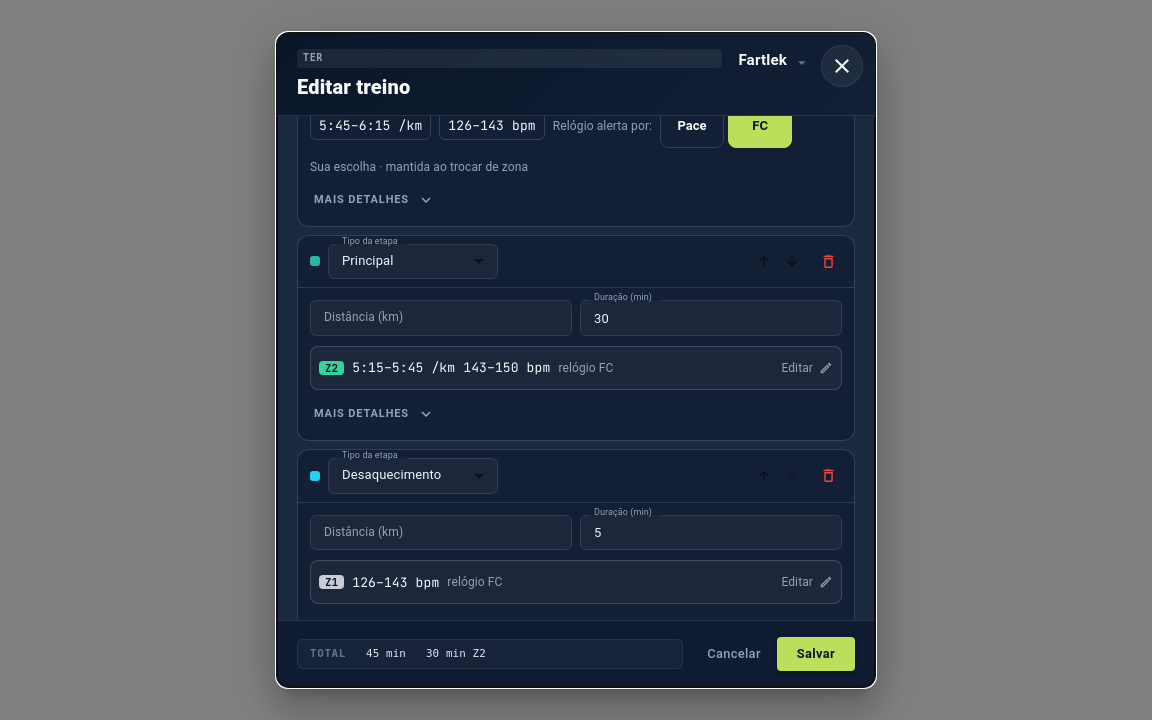
Test: TreinoEditDialog — zonas do atleta › clicar na linha-resumo passa o foco para aquela etapa
The width and height of the screenshot is (1152, 720).
(page scrolled)
Click the button with aria-label "editar intensidade — tipo da etapa 2" at {"x": 576, "y": 368}, box left=310, top=346, right=842, bottom=390
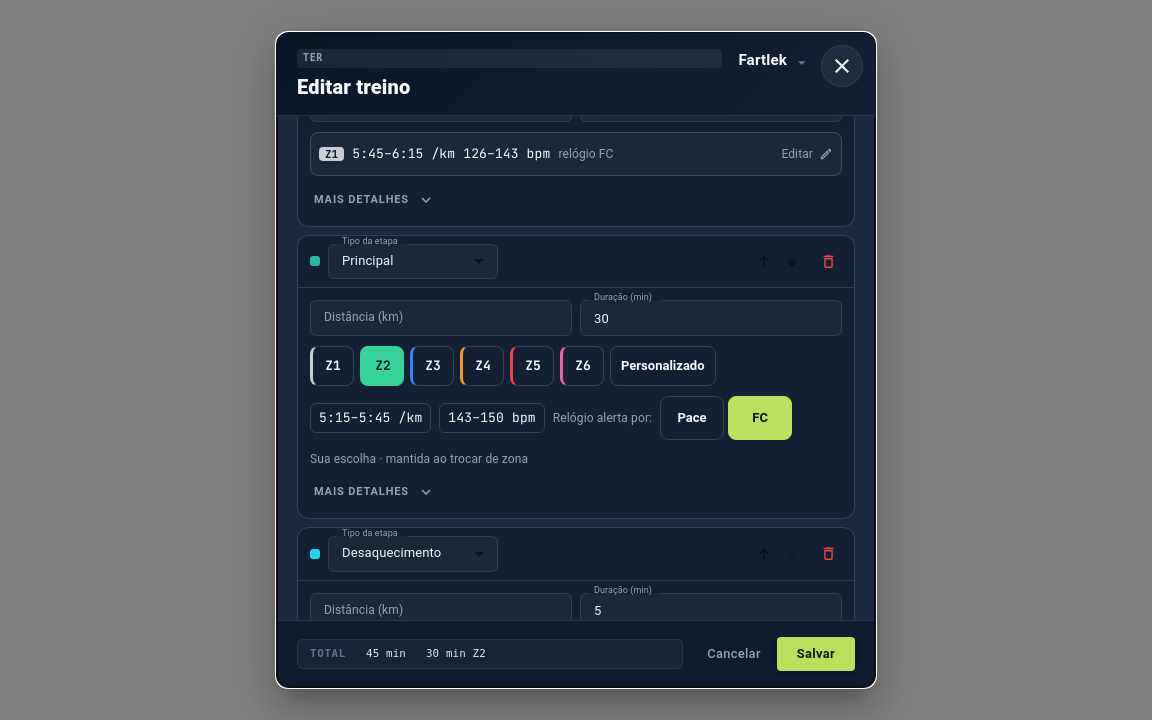
Expected: the number of elements named "zona da etapa" is 1, left=310, top=346, right=716, bottom=386
Expected: the button with aria-label "editar intensidade — tipo da etapa 1" is shown, left=310, top=132, right=842, bottom=176
